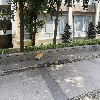fire: (37, 51, 44, 59)
